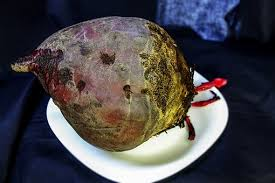beet: (12, 18, 227, 151)
